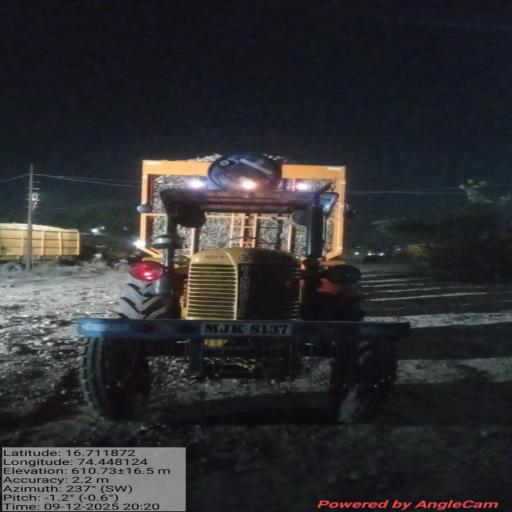number_plate: (202, 322, 291, 335)
